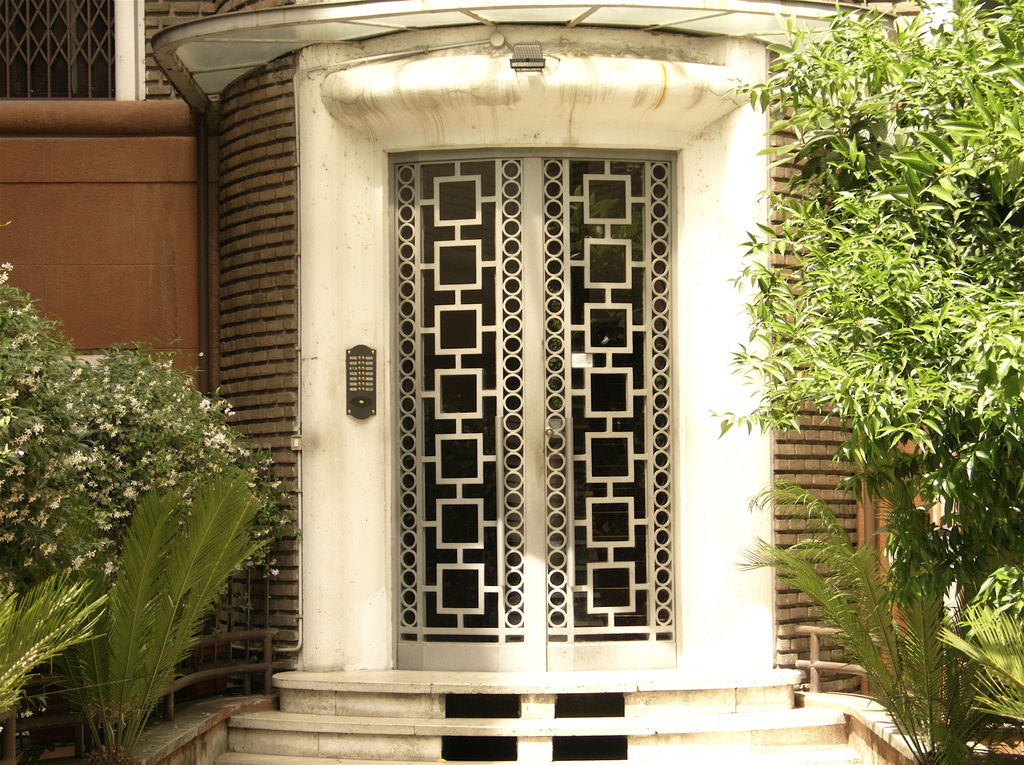Door: (383, 142, 681, 672)
